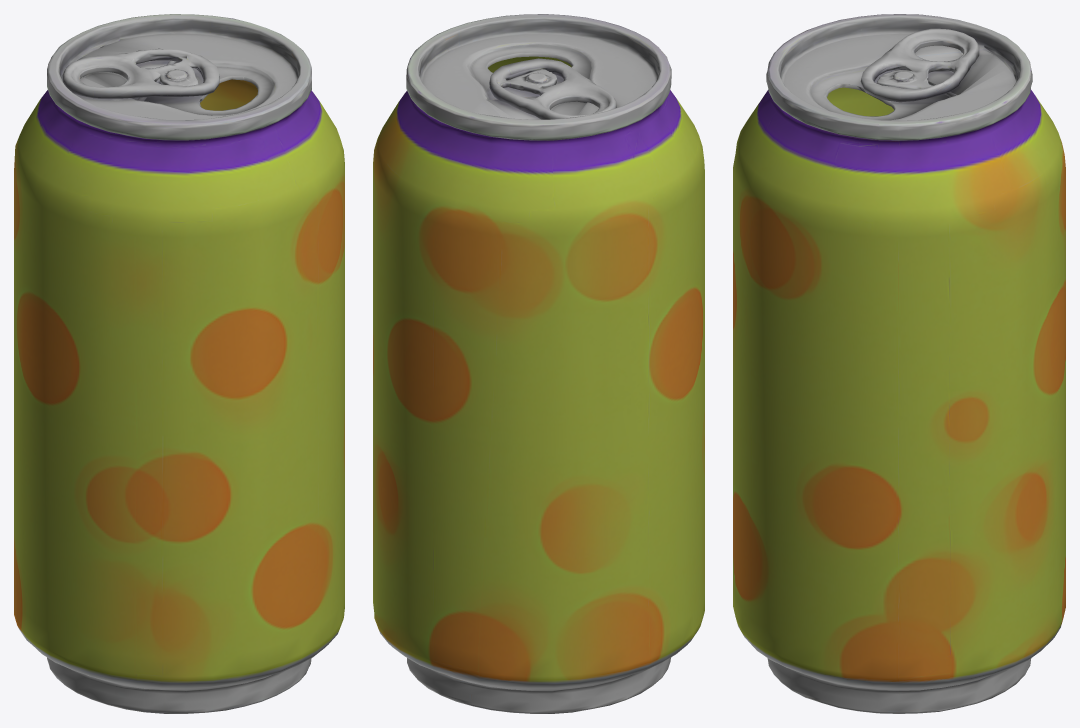
Rendered from soda_can.glb.
3 renders of one model, left to right at view 1: azimuth 30°, elevation 25°; view 2: azimuth 150°, elevation 25°; view 3: azimuth 270°, elevation 25°, orthographic.
Parts seen in each view (by area): view 1: tripo_node_9fffccb5-4051-41e7-afd6-91b8b3846178; view 2: tripo_node_9fffccb5-4051-41e7-afd6-91b8b3846178; view 3: tripo_node_9fffccb5-4051-41e7-afd6-91b8b3846178.
Part boxes in pixels (x1=…): tripo_node_9fffccb5-4051-41e7-afd6-91b8b3846178: x1=14, y1=14, x2=344, y2=713; tripo_node_9fffccb5-4051-41e7-afd6-91b8b3846178: x1=373, y1=14, x2=704, y2=713; tripo_node_9fffccb5-4051-41e7-afd6-91b8b3846178: x1=733, y1=14, x2=1065, y2=713.
Size of the model in its own units: 0.5098 by 0.998 by 0.5098.
Materials: 1 (1 with a texture image).
